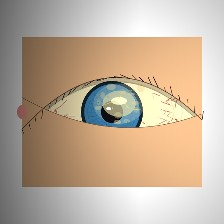corneal_ulcer: (92, 82, 146, 125)
